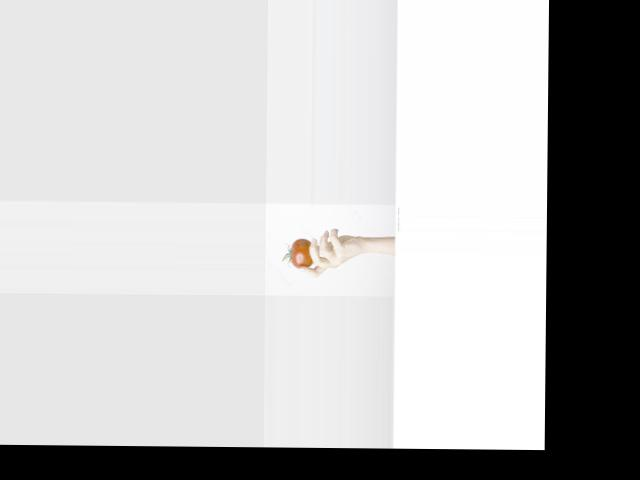tomato: (281, 238, 312, 267)
